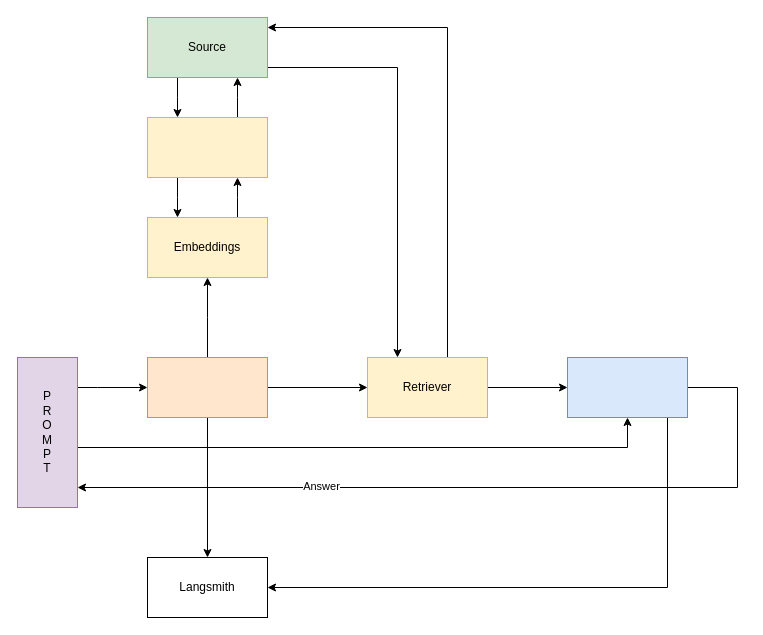
Image size: 763x635. Some labels were removed from this diagram. The shapes that lost their labels are listed below. From the top down, each one's centre as x and y in pixels, then its label:
At point (207, 147): "Splitters".
At point (207, 387): "API".
At point (627, 387): "LLM".
